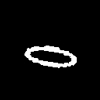chain: (25, 46, 76, 67)
